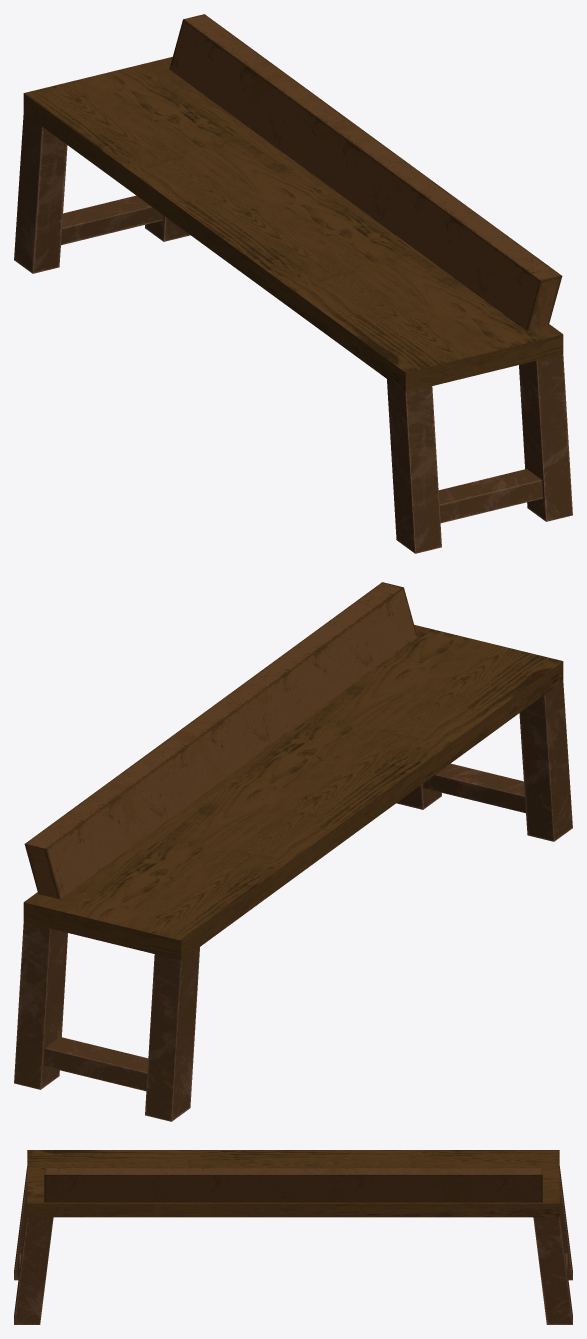
Rendered from Bench.fbx.
3 renders of one model, top to bottom at view 1: azimuth 30°, elevation 25°; view 2: azimuth 150°, elevation 25°; view 3: azimuth 270°, elevation 25°, orthographic. The views are drawn at different scales.
Visible parts, largest first — view 1: Bench; view 2: Bench; view 3: Bench.
Part boxes in pixels (x1,y1,x2,y2): Bench: [14, 14, 572, 553]; Bench: [14, 582, 572, 1121]; Bench: [14, 1150, 572, 1324].
Bounding box in the file's own units: 76.55 × 95.64 × 315.
Materials: 1 (1 with a texture image).
